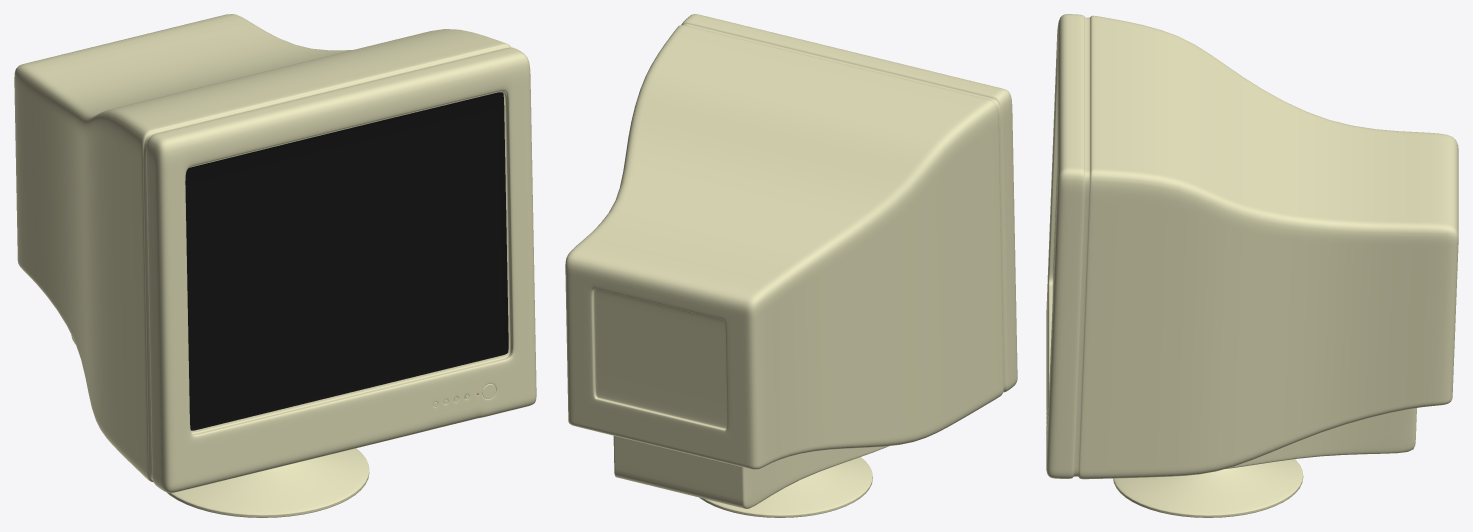
The model's file is Monitor.glb.
3 views of the same model, side by side, from view 1: azimuth 30°, elevation 25°; view 2: azimuth 150°, elevation 25°; view 3: azimuth 270°, elevation 25° (orthographic). The views are drawn at different scales.
Visible parts, largest first — view 1: Monitor; view 2: Monitor; view 3: Monitor.
Boxes of the visible parts, x1,y1,x2,y2 form: Monitor: [14, 14, 536, 517]; Monitor: [565, 14, 1017, 517]; Monitor: [1046, 14, 1458, 517].
Size of the model in its own units: 2.25 by 2.51 by 2.43.
